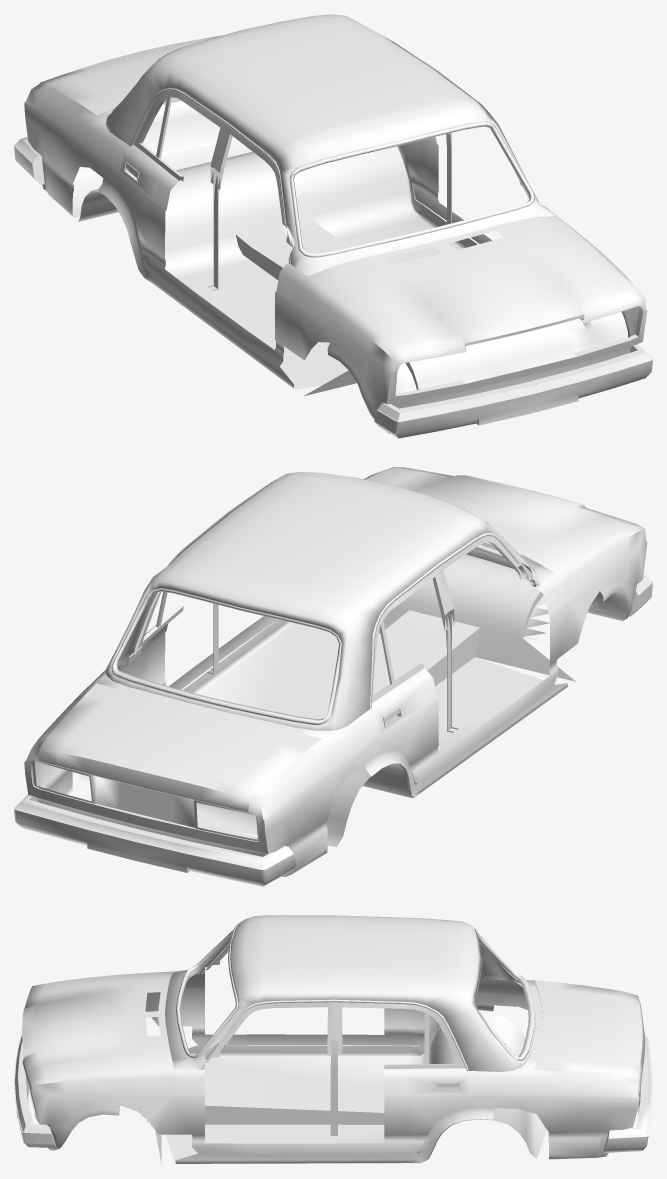
3 renders of one model, top to bottom at view 1: azimuth 30°, elevation 25°; view 2: azimuth 150°, elevation 25°; view 3: azimuth 270°, elevation 25°, orthographic. The views are drawn at different scales.
Bounding box in the file's own units: 1.7 × 1.17 × 4.15.
Materials: 1 (1 with a texture image).
